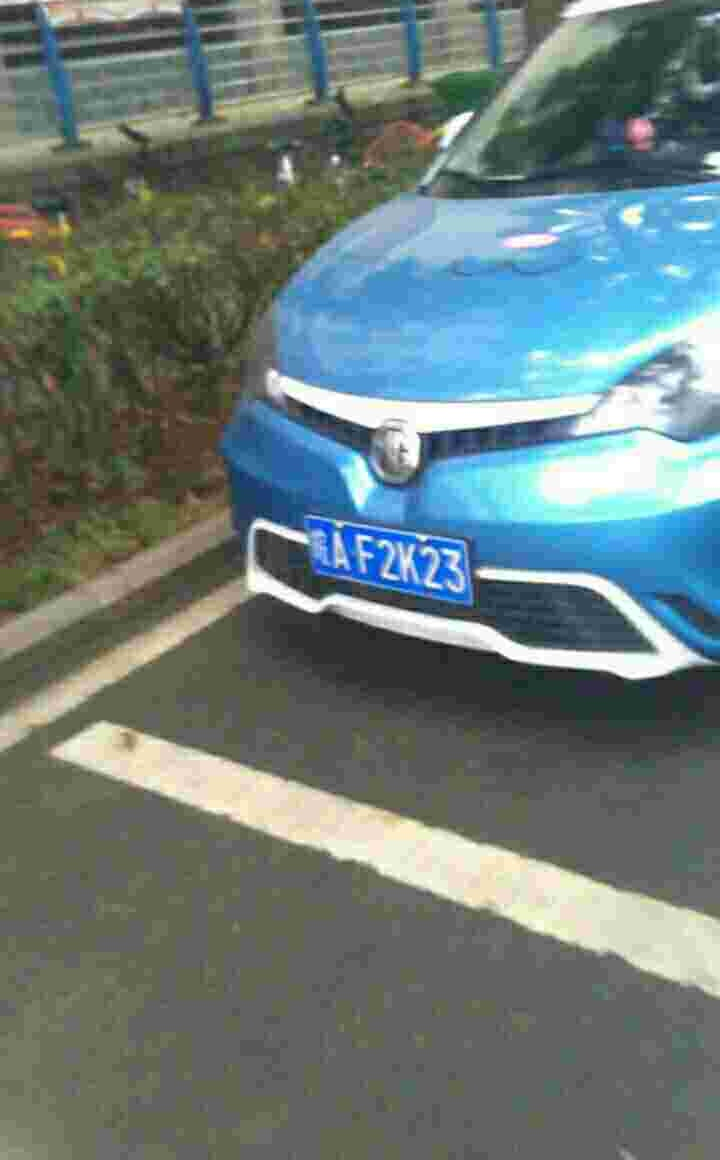license_plate: (301, 517, 482, 606)
